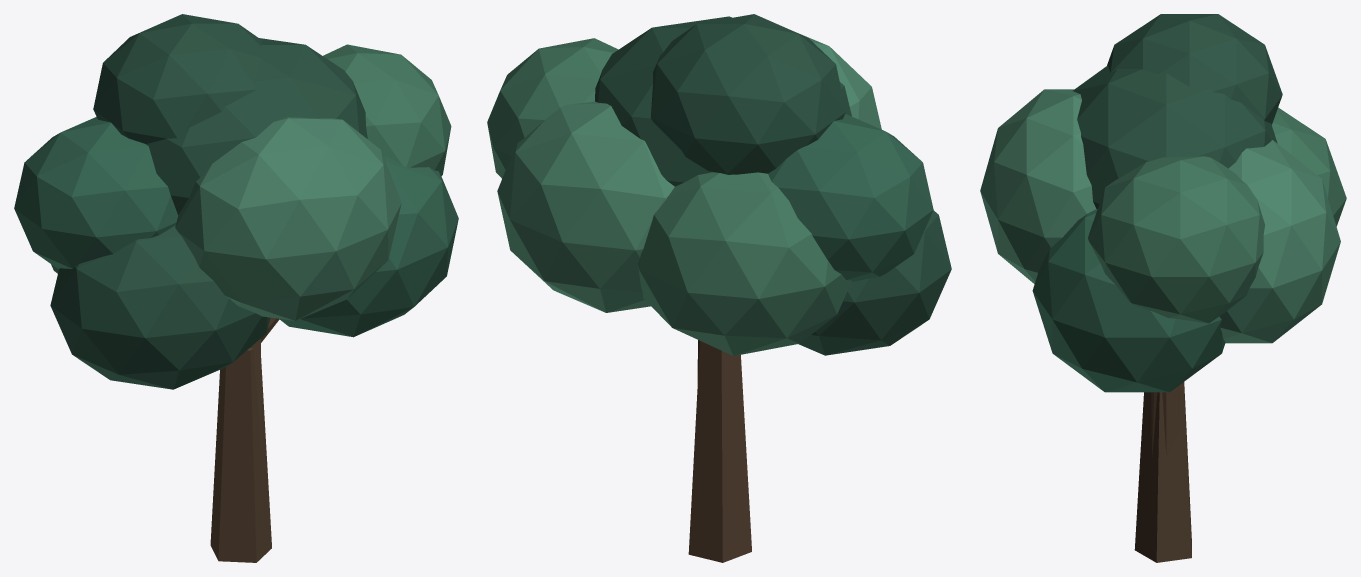
Rendered from broadleaf-reference-v1.glb.
The picture shows the model from 3 angles, left to right: view 1: azimuth 30°, elevation 25°; view 2: azimuth 150°, elevation 25°; view 3: azimuth 270°, elevation 25°; orthographic projection. The views are drawn at different scales.
Parts seen in each view (by area): view 1: Rounded broadleaf crown.007, Rounded broadleaf crown, Rounded broadleaf crown.005, Rounded broadleaf crown.008, Rounded broadleaf crown.004, Rounded broadleaf crown.001, Original trunk reshaped, Rounded broadleaf crown.006; view 2: Rounded broadleaf crown.002, Rounded broadleaf crown.003, Rounded broadleaf crown.008, Rounded broadleaf crown.005, Original trunk reshaped, Rounded broadleaf crown, Rounded broadleaf crown.006, Rounded broadleaf crown.004, Rounded broadleaf crown.007; view 3: Rounded broadleaf crown.006, Rounded broadleaf crown.001, Rounded broadleaf crown.004, Rounded broadleaf crown.007, Rounded broadleaf crown.003, Rounded broadleaf crown.008, Original trunk reshaped, Rounded broadleaf crown.002, Branch.
Boxes of the visible parts, left/top/right/bottom form: Rounded broadleaf crown.007: left=175, top=117, right=401, bottom=320; Rounded broadleaf crown: left=50, top=225, right=270, bottom=389; Rounded broadleaf crown.005: left=14, top=117, right=178, bottom=269; Rounded broadleaf crown.008: left=93, top=14, right=263, bottom=143; Rounded broadleaf crown.004: left=146, top=38, right=367, bottom=215; Rounded broadleaf crown.001: left=279, top=156, right=458, bottom=337; Original trunk reshaped: left=210, top=348, right=271, bottom=562; Rounded broadleaf crown.006: left=323, top=44, right=451, bottom=175; Rounded broadleaf crown.002: left=638, top=172, right=851, bottom=355; Rounded broadleaf crown.003: left=497, top=101, right=674, bottom=312; Rounded broadleaf crown.008: left=651, top=14, right=845, bottom=174; Rounded broadleaf crown.005: left=768, top=114, right=933, bottom=281; Original trunk reshaped: left=688, top=341, right=751, bottom=562; Rounded broadleaf crown: left=798, top=210, right=951, bottom=355; Rounded broadleaf crown.006: left=487, top=38, right=618, bottom=178; Rounded broadleaf crown.004: left=595, top=16, right=851, bottom=186; Rounded broadleaf crown.007: left=798, top=33, right=881, bottom=129; Rounded broadleaf crown.006: left=1088, top=156, right=1264, bottom=323; Rounded broadleaf crown.001: left=1032, top=209, right=1225, bottom=392; Rounded broadleaf crown.004: left=1073, top=65, right=1277, bottom=208; Rounded broadleaf crown.007: left=980, top=89, right=1096, bottom=283; Rounded broadleaf crown.003: left=1219, top=140, right=1340, bottom=343; Rounded broadleaf crown.008: left=1107, top=14, right=1282, bottom=124; Original trunk reshaped: left=1134, top=382, right=1191, bottom=562; Rounded broadleaf crown.002: left=1272, top=107, right=1346, bottom=226; Branch: left=1151, top=385, right=1179, bottom=457.
Bounding box in the file's own units: 3.92 × 4.86 × 3.15.
